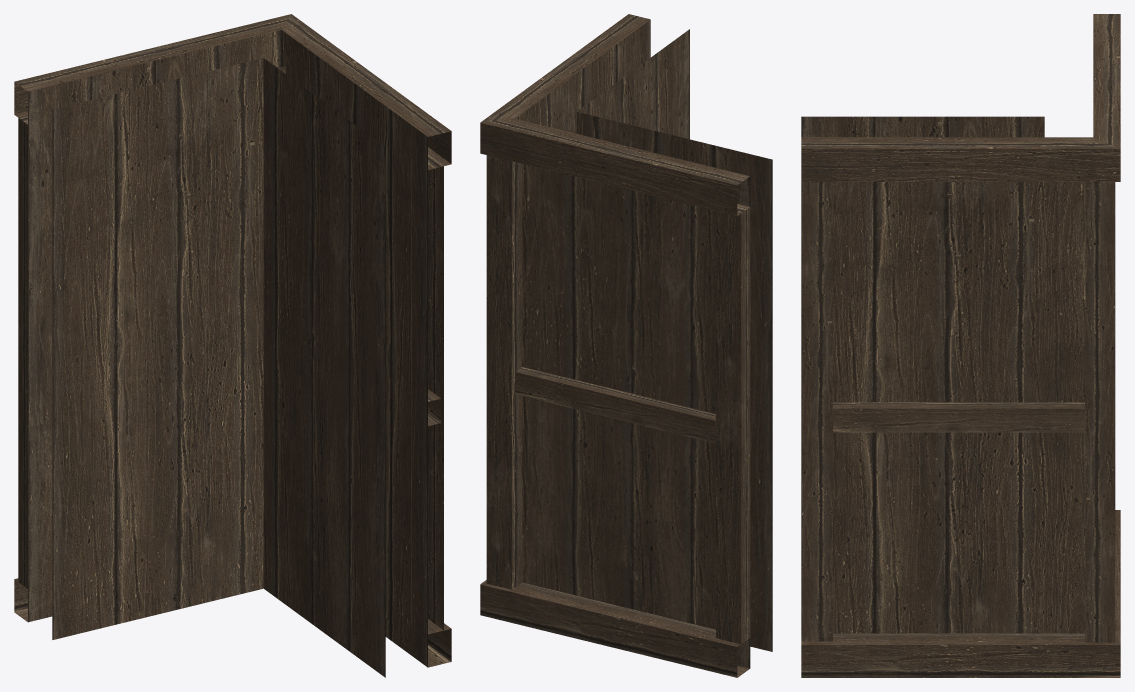
Rendered from ARC1010326.fbx.
The picture shows the model from 3 angles, left to right: view 1: azimuth 30°, elevation 25°; view 2: azimuth 150°, elevation 25°; view 3: azimuth 270°, elevation 25°; orthographic projection. The views are drawn at different scales.
Parts seen in each view (by area): view 1: smARC1010326; view 2: smARC1010326; view 3: smARC1010326.
Part boxes in pixels (x1,y1,x2,y2): smARC1010326: (14,14,451,677); smARC1010326: (480,14,772,677); smARC1010326: (801,14,1120,677).
Bounding box in the file's own units: 147 × 268 × 147.
Materials: 1 (1 with a texture image).
